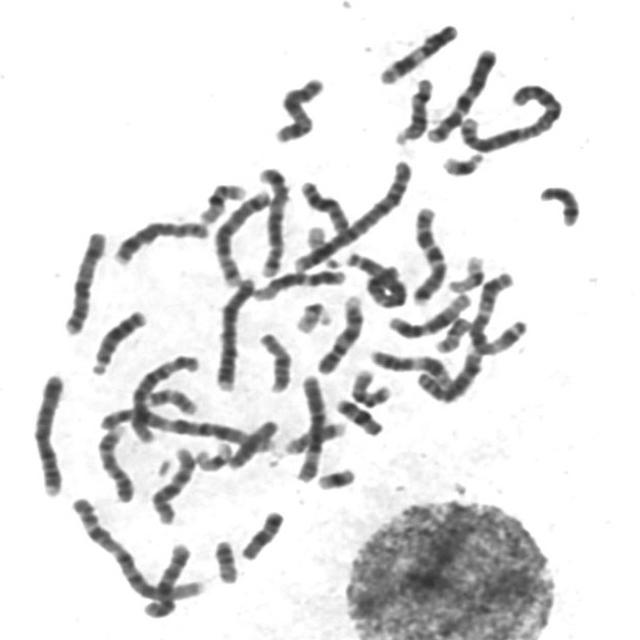A1: (66, 492, 208, 604), (94, 401, 280, 455)
A2: (290, 154, 416, 274), (453, 77, 568, 154)
A3: (464, 265, 533, 357), (340, 246, 411, 310)
B4: (210, 271, 260, 394), (28, 367, 70, 498)
B5: (208, 184, 275, 287), (252, 160, 293, 280)
C10: (138, 537, 195, 620), (146, 442, 199, 526)
C11: (373, 17, 462, 86), (366, 344, 456, 388)
C12: (384, 287, 476, 339), (250, 264, 350, 302)
C6: (127, 348, 203, 446), (291, 370, 330, 484)
C7: (421, 42, 502, 144), (406, 200, 450, 306)
C8: (109, 214, 214, 267), (412, 343, 486, 405)
C9: (312, 290, 368, 376), (92, 419, 138, 505)
D13: (86, 303, 151, 377), (295, 175, 353, 235)
D14: (390, 72, 438, 147), (537, 183, 580, 229)
D15: (224, 415, 282, 471), (253, 327, 295, 395)
E16: (195, 178, 250, 225), (345, 364, 395, 409)
E17: (281, 416, 350, 456), (139, 384, 201, 418)
E18: (236, 506, 288, 562), (330, 393, 387, 438)
F19: (443, 250, 489, 295), (190, 437, 236, 473)
F20: (431, 312, 474, 354), (209, 534, 242, 586)
G21: (436, 147, 488, 178), (312, 462, 359, 492)
G22: (302, 222, 342, 270), (290, 296, 334, 335)
X: (57, 224, 111, 337), (270, 71, 328, 144)
